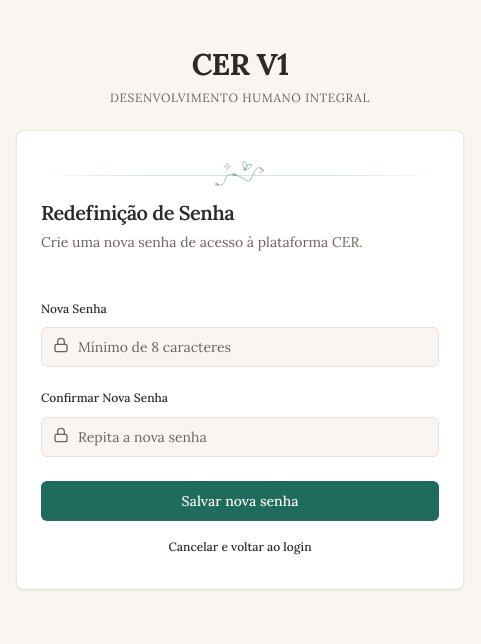
Test: ResetPassword Page › 5. Erro no token (inválido ou expirado): orienta a solicitar novo e-mail
Type "senhaValida123" into the password field labelled "Nova Senha" at point(240, 347), box x1=41 y1=327 x2=439 y2=367
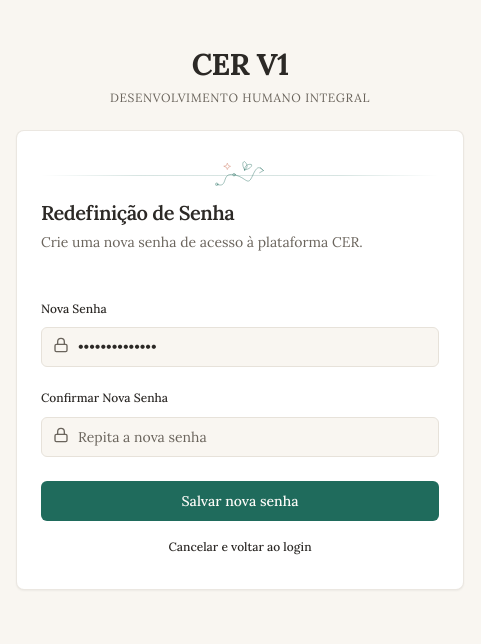
Type "senhaValida123" into the password field labelled "Confirmar Nova Senha" at point(240, 437), box x1=41 y1=417 x2=439 y2=457
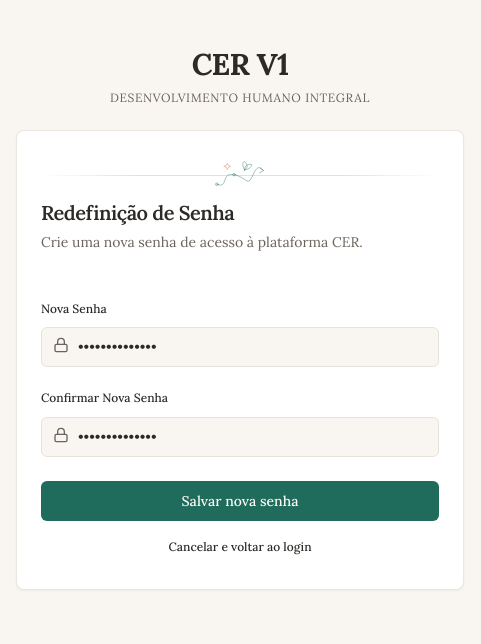
Click the button "Salvar nova senha" at point(240, 501), box x1=41 y1=481 x2=439 y2=521
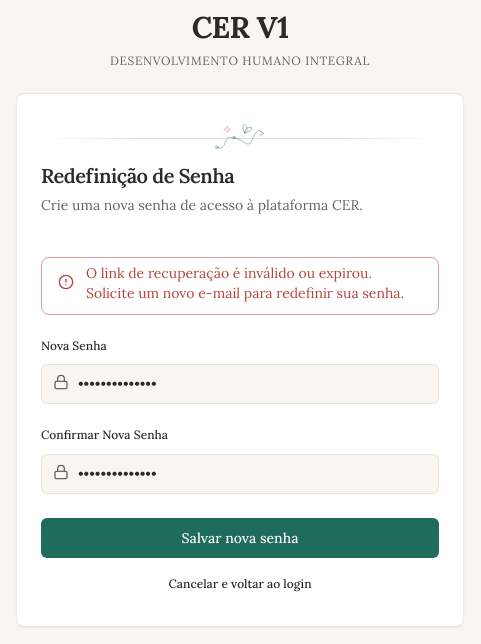
expect the text "O link de recuperação é inválido ou expirou. Solicite um novo e-mail" is shown: met, box x1=86 y1=264 x2=404 y2=302
